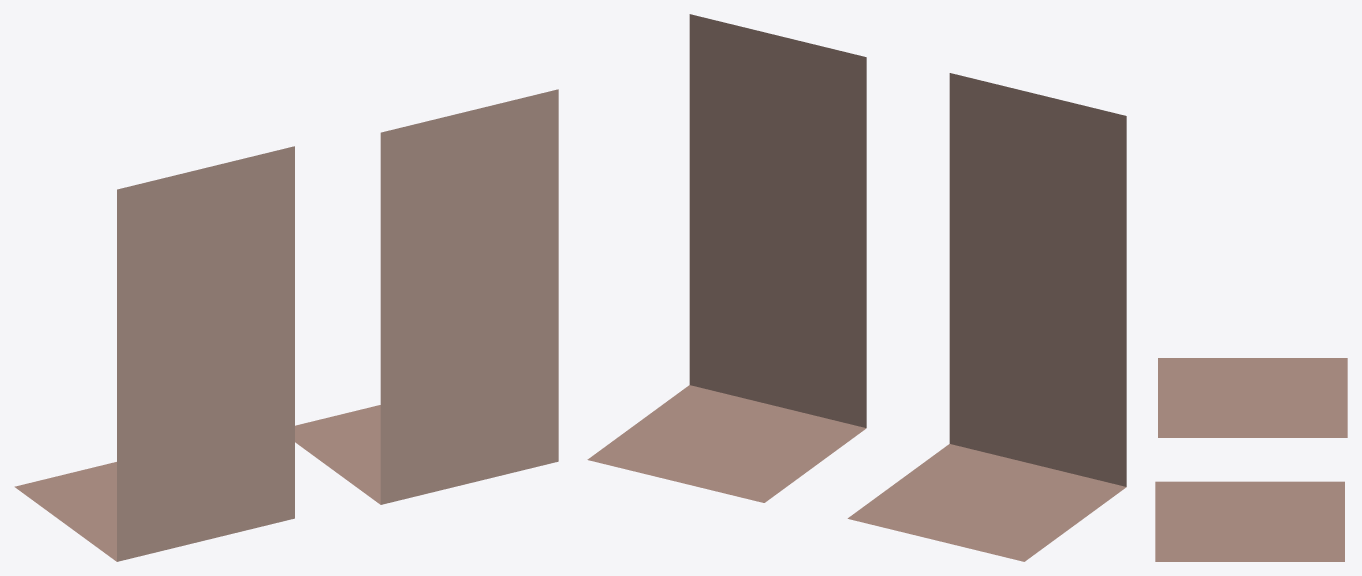
Rendered from patasave1.obj.
3 views of the same model, side by side, from view 1: azimuth 30°, elevation 25°; view 2: azimuth 150°, elevation 25°; view 3: azimuth 270°, elevation 25° (orthographic). The views are drawn at different scales.
Visible parts, largest first — view 1: patas_material_0; view 2: patas_material_0; view 3: patas_material_0.
Part boxes in pixels (left/top/right/bottom): patas_material_0: left=14, top=89, right=558, bottom=561; patas_material_0: left=587, top=14, right=1126, bottom=561; patas_material_0: left=1155, top=358, right=1347, bottom=561.
Size of the model in its own units: 0.1547 by 0.127 by 0.0634.
1 material, 1 textured.
